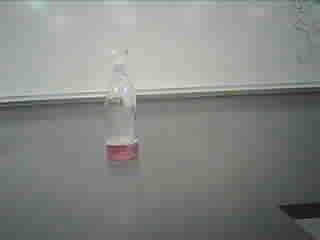hazard: (98, 45, 143, 168)
